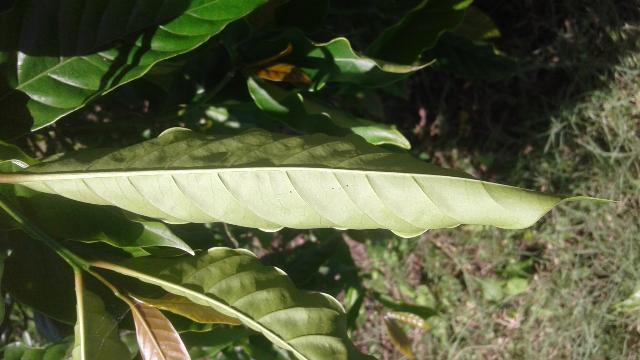healthy: (8, 118, 640, 239)
